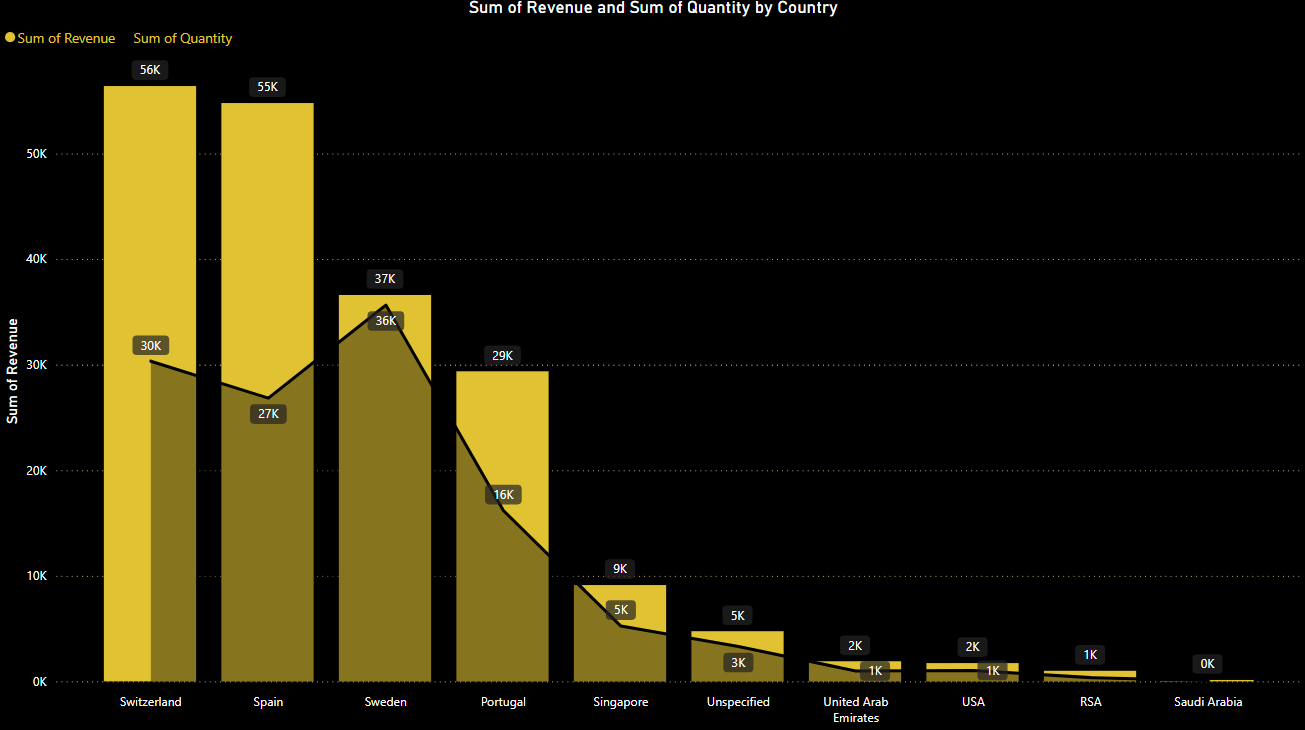

This screenshot's page, from the dashboard's own definition file:
{"tool":"powerbi","page":{"name":"Question 2","canvas":[1280,720],"ordinal":1},"visuals":[{"type":"lineClusteredColumnComboChart","fields":{"Category":["Online Retail.Country"],"Y":["Sum(Online Retail.Revenue)"],"Y2":["Sum(Online Retail.Quantity)"]},"box":[0,0,1280.3,720.4],"z":0}]}

Visuals, with their boxes in screenshot pixels (x1, y1, x2, y2), scaled from the page's 1280x720 canvas onto the 1305x730 screenshot:
lineClusteredColumnComboChart - Online Retail.Country x Sum(Online Retail.Revenue): [left=0, top=0, right=1304, bottom=729]
